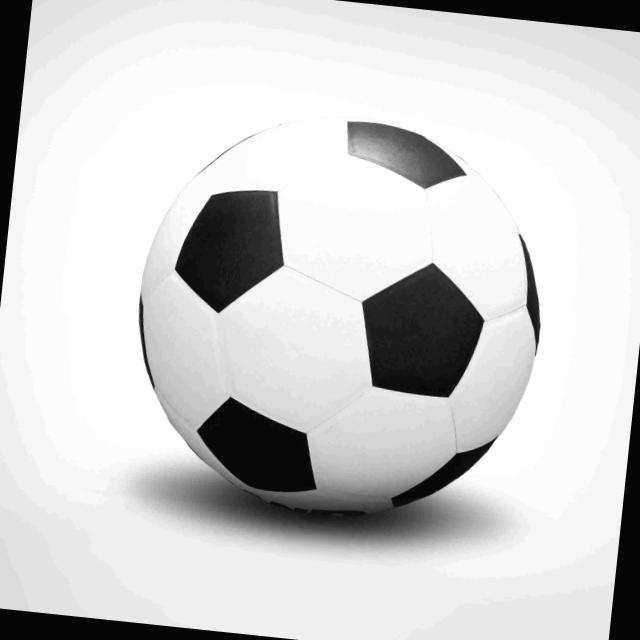Soccer Ball: (118, 99, 557, 540)
